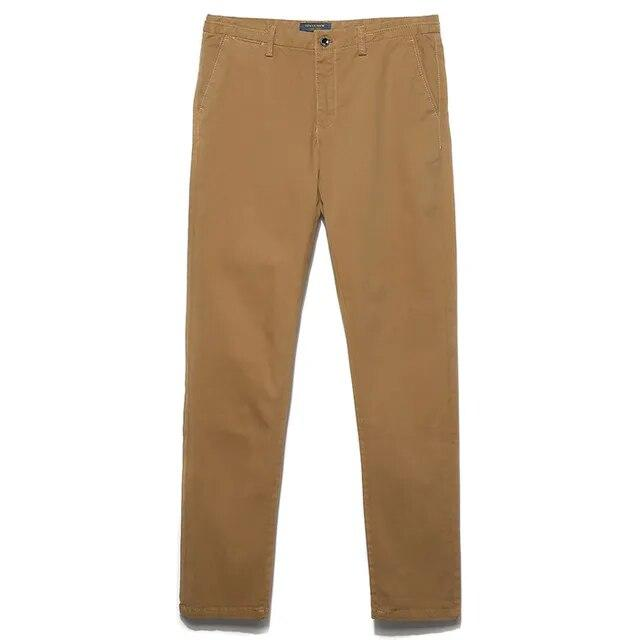long-pants: (177, 14, 463, 639)
